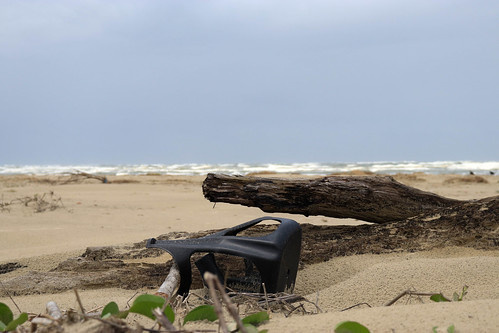beach: (11, 178, 499, 333)
chair: (160, 212, 313, 312)
sky: (1, 1, 488, 157)
tree trunk: (195, 162, 463, 227)
